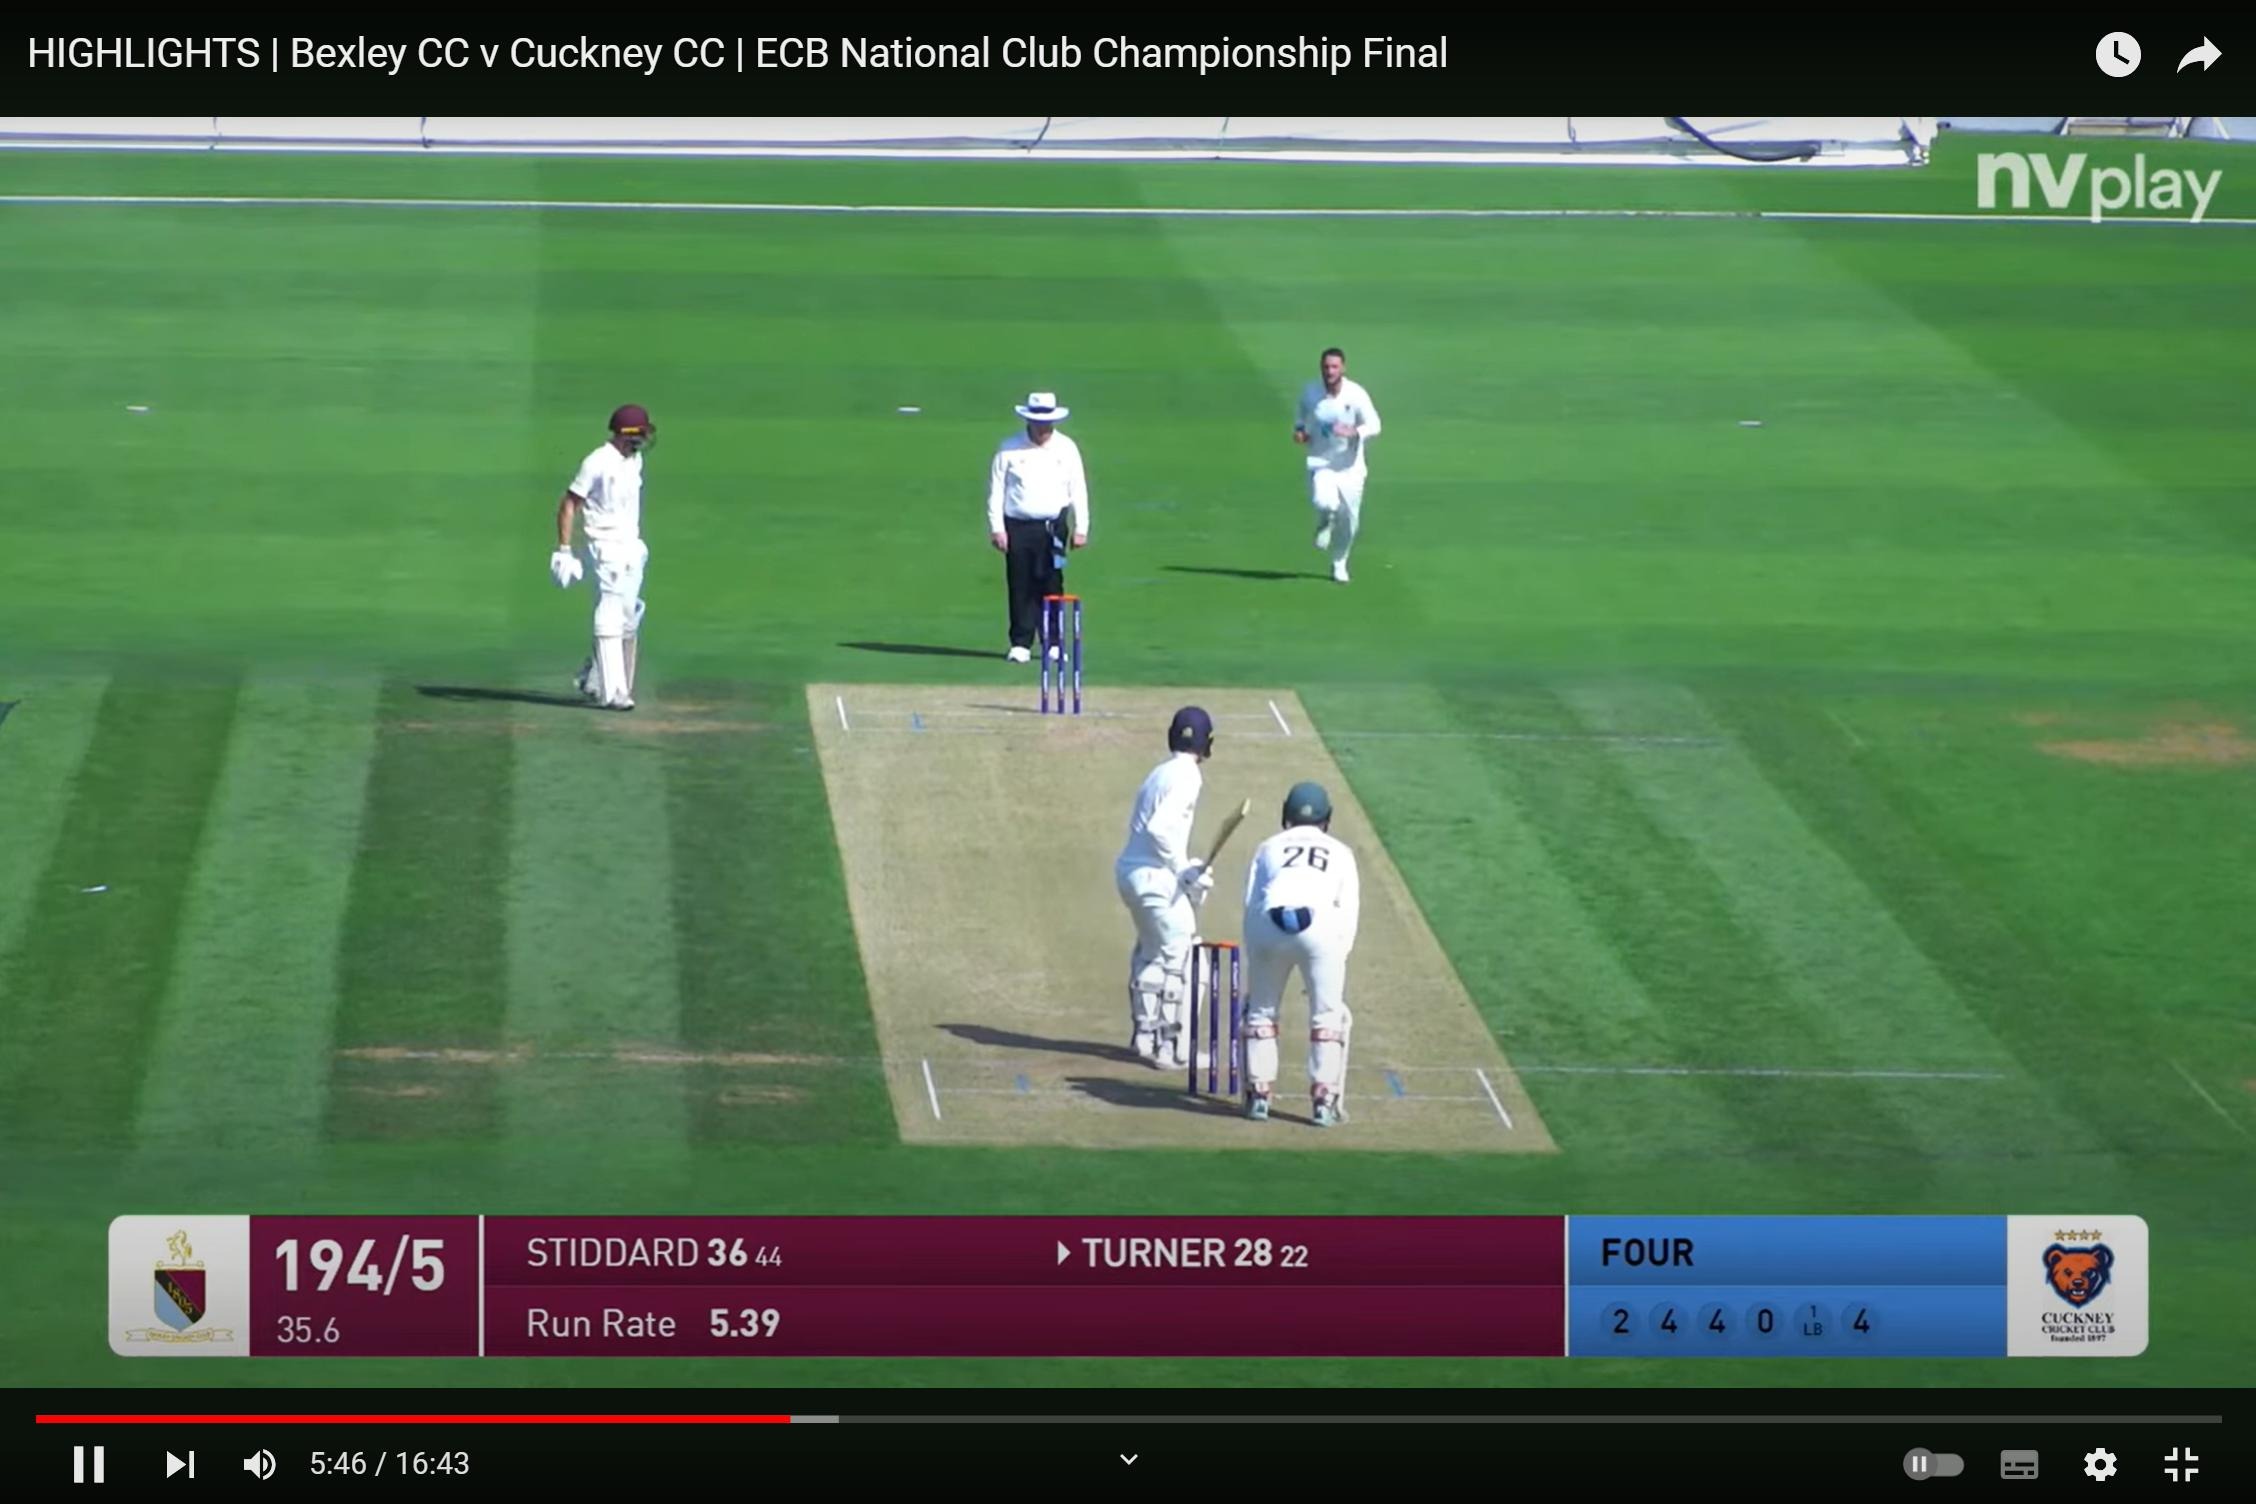batsman: (1113, 697, 1222, 1051)
bowler running in: (1262, 317, 1400, 594)
non striker: (493, 371, 727, 720)
umpire: (962, 378, 1104, 660)
wicket keeper: (1240, 774, 1402, 1123)
